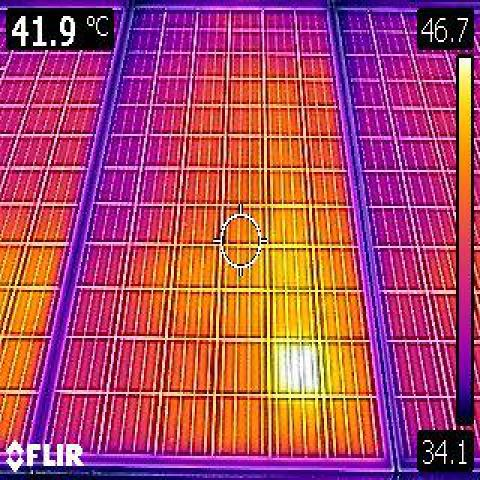fault: (269, 340, 326, 398)
